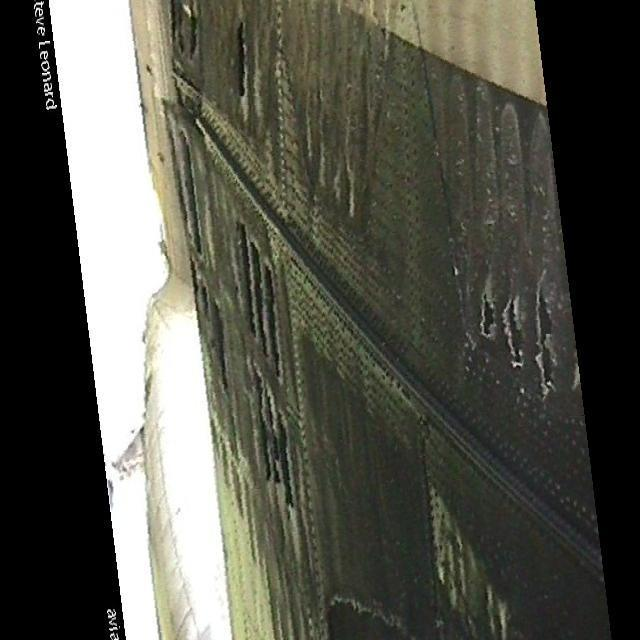crack: (474, 271, 572, 402)
